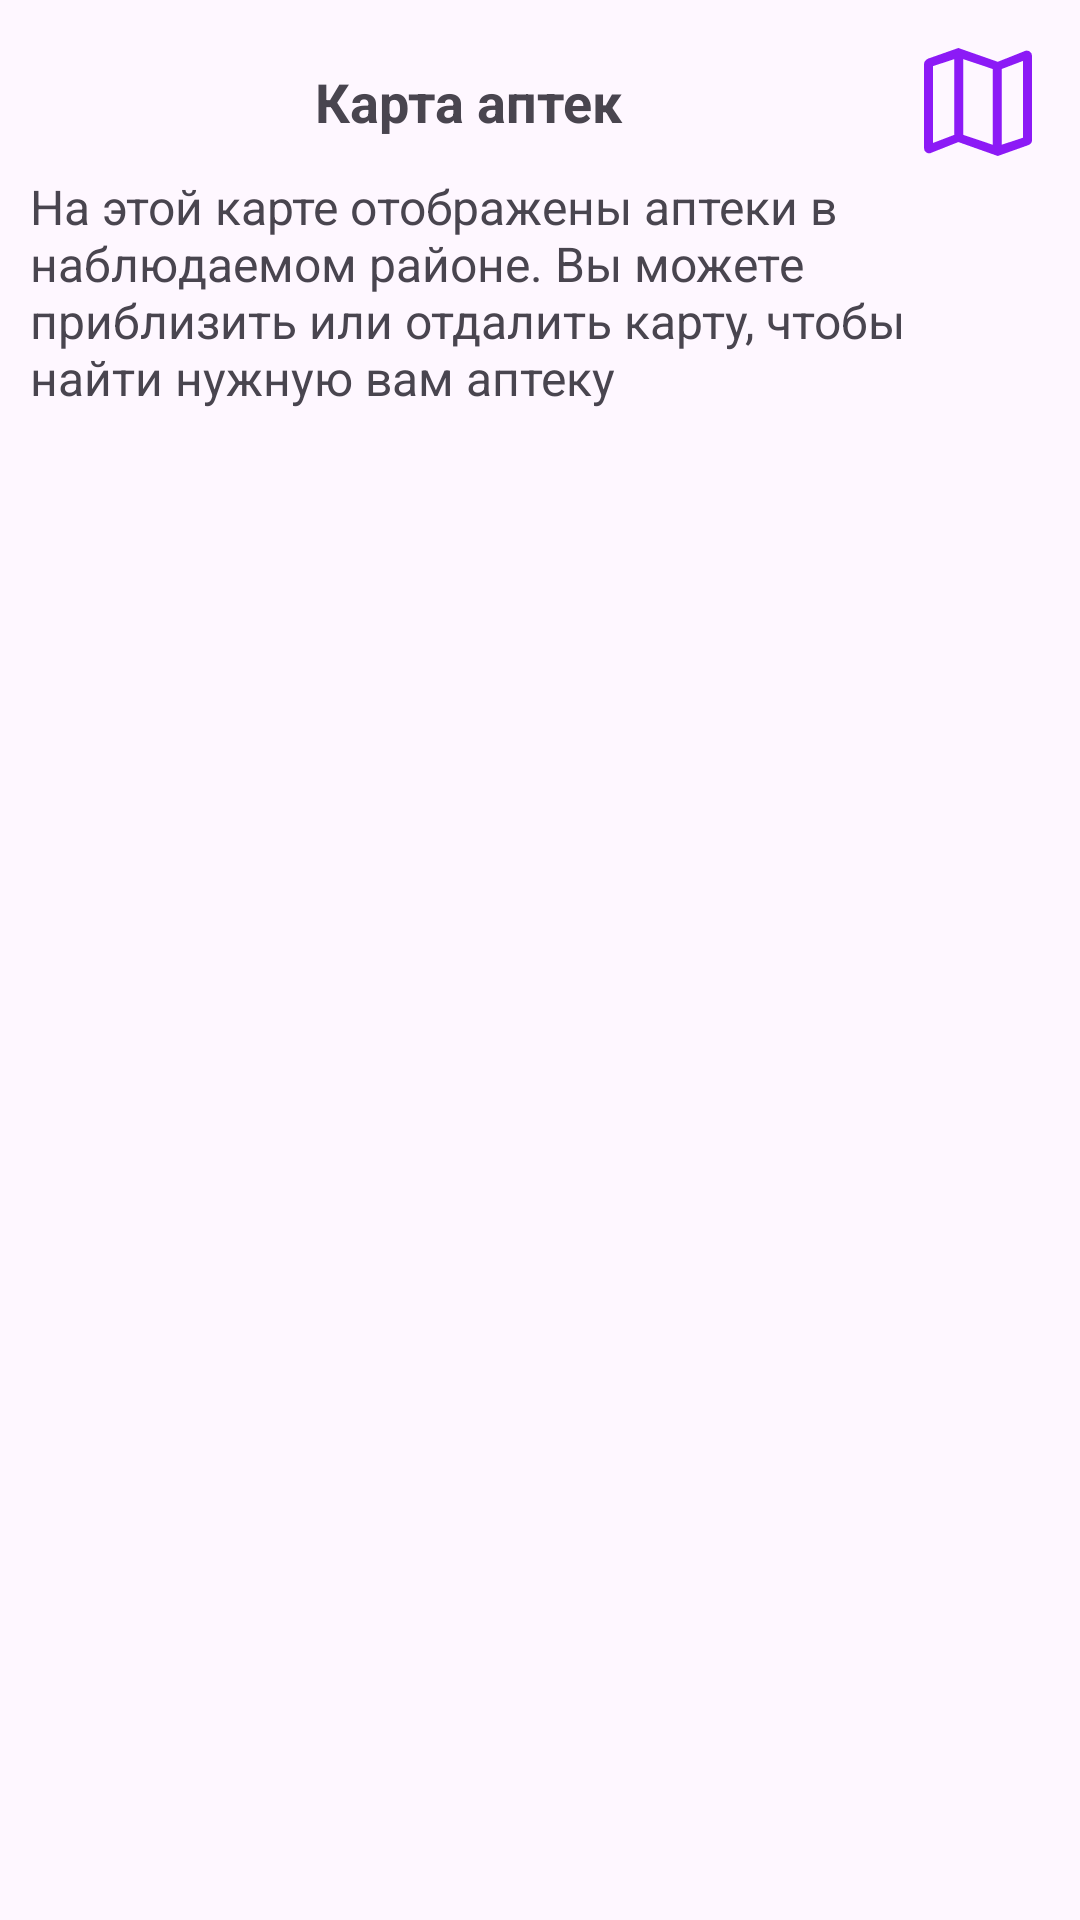

Icon click points for this 1080×1920 phone screenshot, format point (x, y):
map: point (978, 102)
